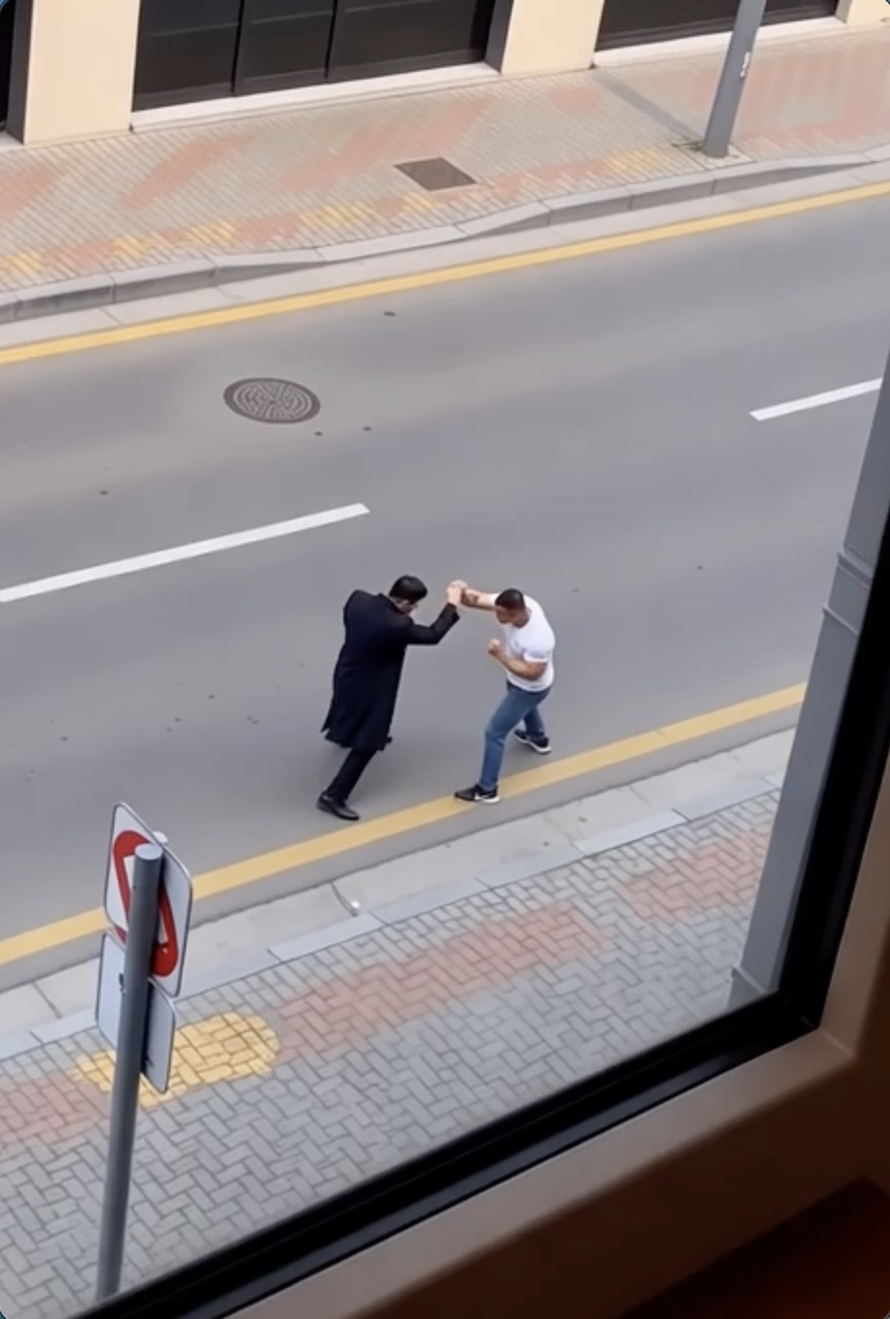Assault: (449, 584, 555, 804)
Fighting: (315, 574, 460, 823)
